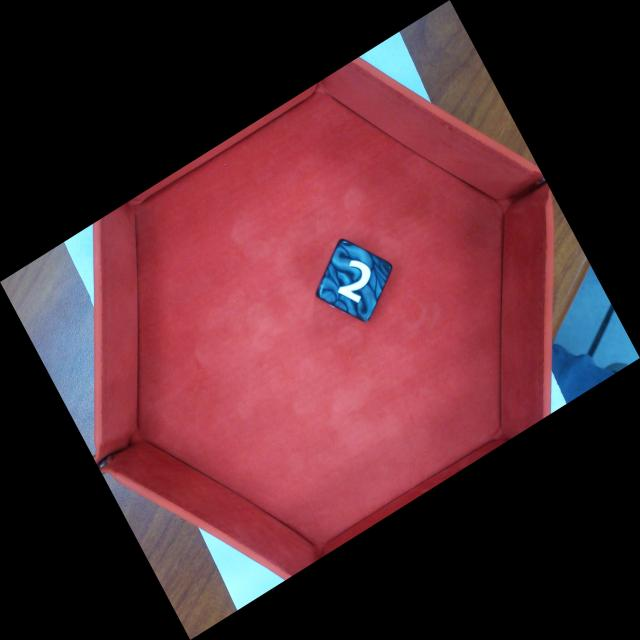dice: (312, 237, 394, 326)
